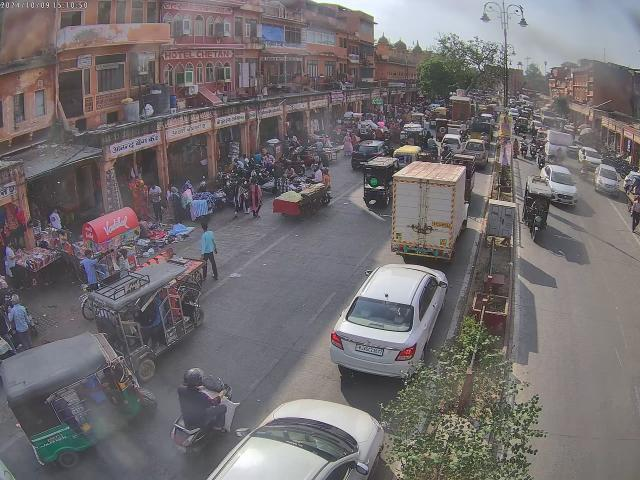auto: (0, 331, 155, 467), (86, 258, 208, 364), (522, 174, 551, 242), (363, 156, 399, 206), (392, 145, 420, 170), (468, 118, 494, 140)
car: (328, 262, 450, 382), (542, 164, 578, 206), (593, 164, 621, 196), (440, 133, 465, 156)
helmet: (182, 367, 204, 385)
license_plate: (353, 342, 383, 358), (431, 221, 452, 230)
lorry: (392, 162, 472, 258)
person: (6, 296, 34, 344), (198, 222, 218, 278), (250, 177, 264, 218), (235, 178, 248, 218), (46, 207, 64, 232), (148, 182, 162, 210)
scooty: (198, 176, 226, 208)
scooty-rider: (170, 366, 241, 454), (535, 145, 549, 167), (518, 134, 528, 158)
vendor: (272, 172, 326, 222)
